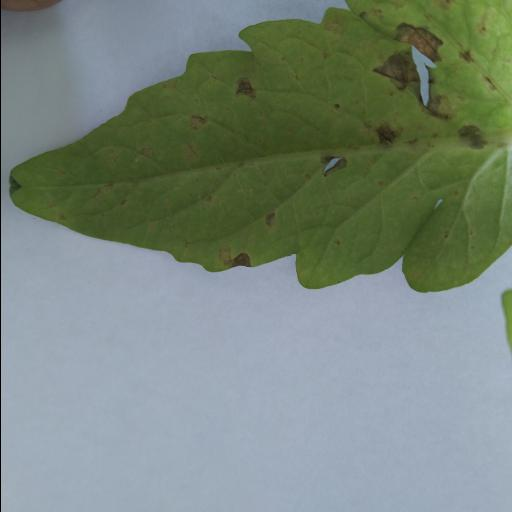disease_tomato: (7, 0, 512, 295)
